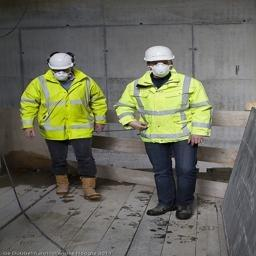hat: (136, 38, 189, 76), (34, 48, 99, 76)
no vest: (118, 76, 225, 146), (24, 73, 108, 148)
